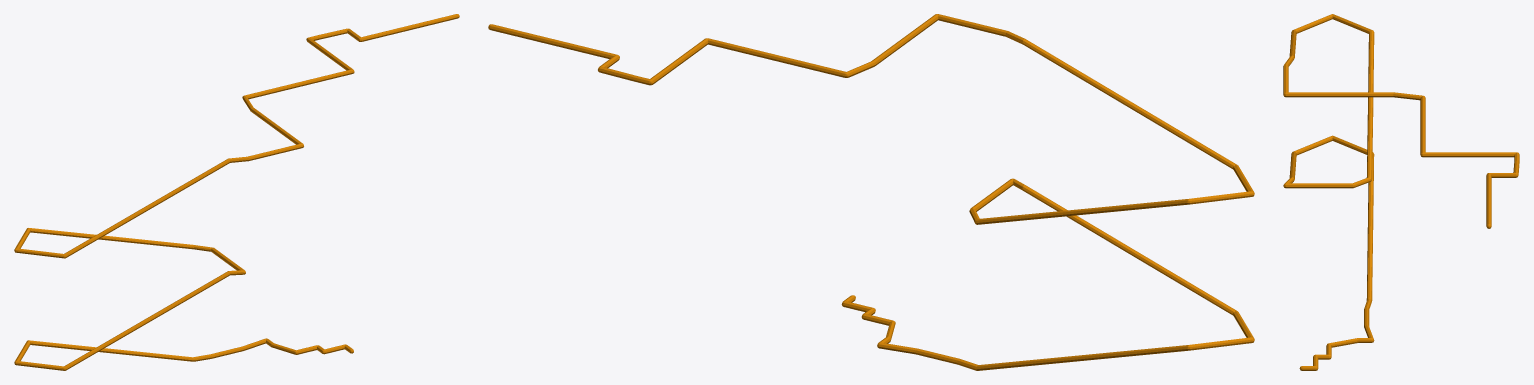
The picture shows the model from 3 angles, left to right: view 1: azimuth 30°, elevation 25°; view 2: azimuth 150°, elevation 25°; view 3: azimuth 270°, elevation 25°; orthographic projection. The views are drawn at different scales.
Bounding box in the file's own units: 2406 × 1020 × 881.
